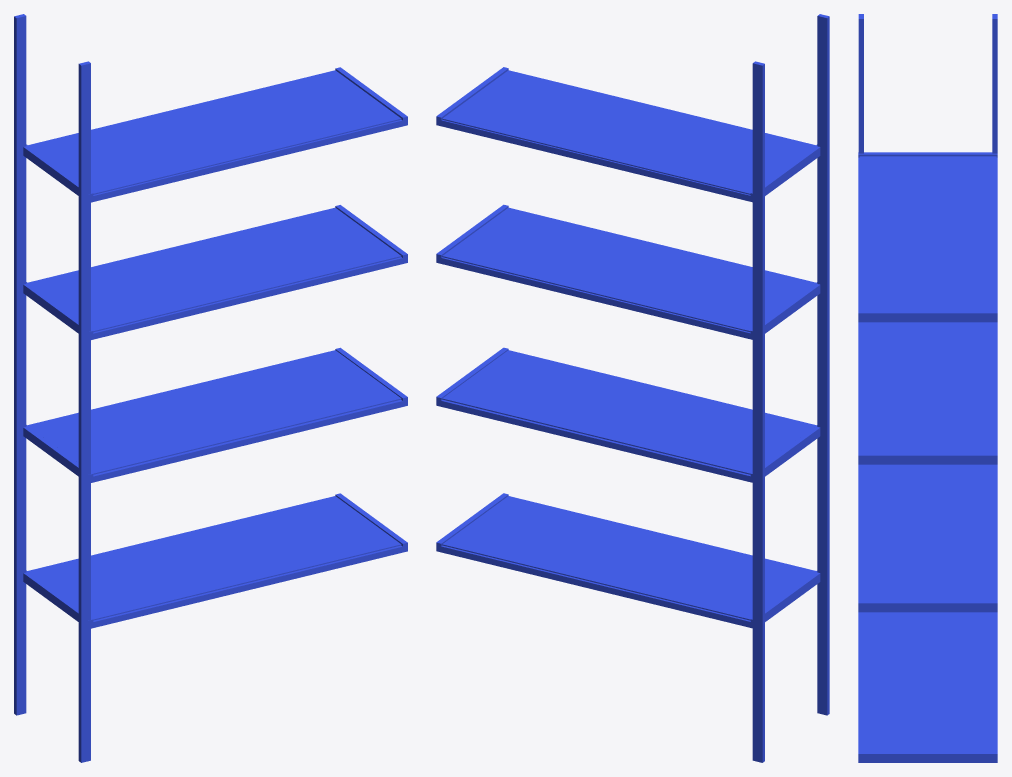
File: rayonnage_XL 1.FBX
3 views of the same model, side by side, from view 1: azimuth 30°, elevation 25°; view 2: azimuth 150°, elevation 25°; view 3: azimuth 270°, elevation 25° (orthographic). The views are drawn at different scales.
Parts seen in each view (by area): view 1: rayonnage_XL; view 2: rayonnage_XL; view 3: rayonnage_XL.
Part boxes in pixels (x1=…): rayonnage_XL: x1=14, y1=14, x2=407, y2=762; rayonnage_XL: x1=436, y1=14, x2=829, y2=762; rayonnage_XL: x1=858, y1=14, x2=997, y2=762.
Size of the model in its own units: 77.13 by 157 by 27.64.
